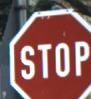Stop sign: (0, 0, 90, 98)
